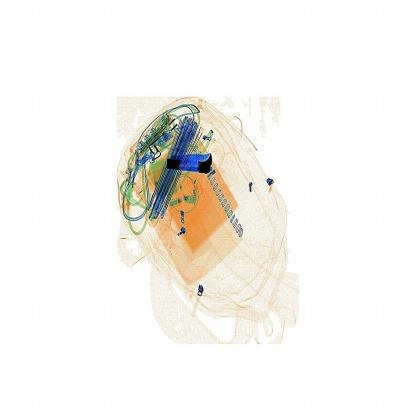knife: (164, 147, 219, 180)
